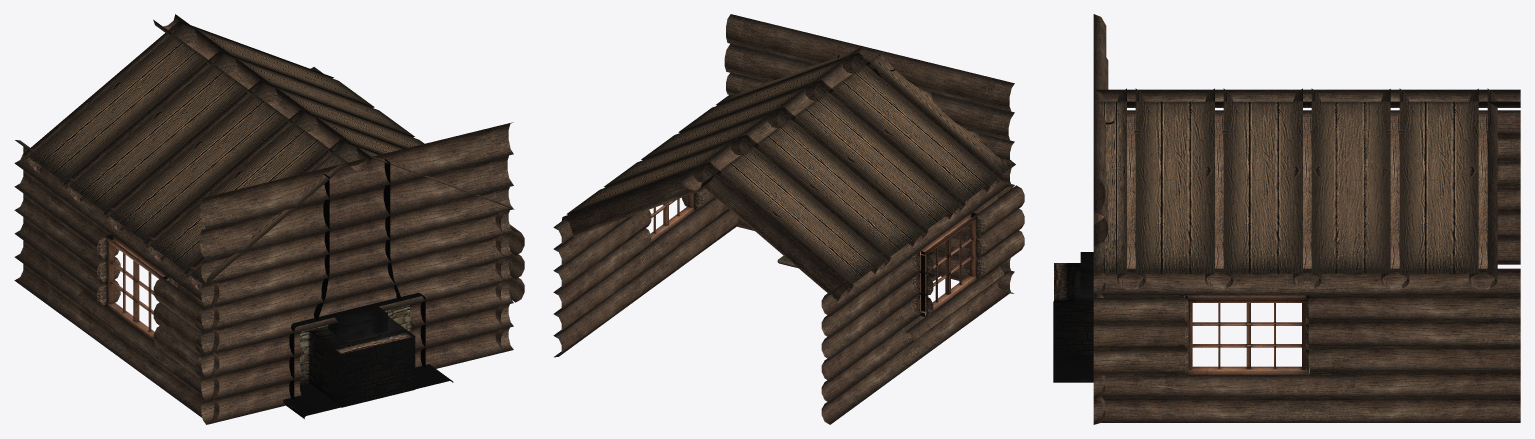
The model's file is 02_05_cabin.dae.
3 renders of one model, left to right at view 1: azimuth 30°, elevation 25°; view 2: azimuth 150°, elevation 25°; view 3: azimuth 270°, elevation 25°, orthographic. The views are drawn at different scales.
Visible parts, largest first — view 1: polySurface50, polySurface52; view 2: polySurface50; view 3: polySurface50, polySurface52.
Part boxes in pixels (x1,y1,x2,y2): polySurface50: [14, 14, 524, 424]; polySurface52: [283, 159, 453, 418]; polySurface50: [553, 14, 1024, 424]; polySurface50: [1093, 14, 1520, 424]; polySurface52: [1053, 121, 1114, 382].
Size of the model in its own units: 7.75 by 5.26 by 8.74.
